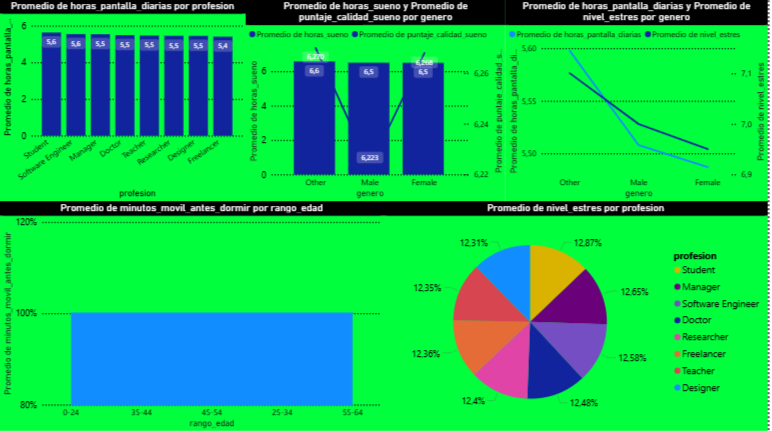

This screenshot's page, from the dashboard's own definition file:
{"tool":"powerbi","page":{"name":"Página 1","canvas":[1280,720],"ordinal":0},"visuals":[{"type":"clusteredColumnChart","fields":{"Category":["Estadisticas.profesion"],"Y":["Avg(Estadisticas.horas_pantalla_diarias)"]},"box":[0,0,410,336.7],"z":0},{"type":"lineClusteredColumnComboChart","fields":{"Category":["Estadisticas.genero"],"Y":["Avg(Estadisticas.horas_sueno)"],"Y2":["Avg(Estadisticas.puntaje_calidad_sueno)"]},"box":[410,0,433.3,336.7],"z":1},{"type":"lineChart","fields":{"Category":["Estadisticas.genero"],"Y":["Avg(Estadisticas.horas_pantalla_diarias)"],"Y2":["Avg(Estadisticas.nivel_estres)"]},"box":[843.3,0,436.7,336.7],"z":2},{"type":"hundredPercentStackedAreaChart","fields":{"Category":["Estadisticas.rango_edad"],"Y":["Avg(Estadisticas.minutos_movil_antes_dormir)"]},"box":[0,336.7,640,383.3],"z":3},{"type":"pieChart","fields":{"Category":["Estadisticas.profesion"],"Y":["Avg(Estadisticas.nivel_estres)"]},"box":[640,336.7,640,383.3],"z":4}]}

Visuals, with their boxes in screenshot pixels (x1, y1, x2, y2), scaled from the page's 1280x720 canvas onto the 772x431 screenshot:
clusteredColumnChart - Estadisticas.profesion x Avg(Estadisticas.horas_pantalla_diarias): [x1=0, y1=0, x2=247, y2=202]
lineClusteredColumnComboChart - Estadisticas.genero x Avg(Estadisticas.horas_sueno): [x1=247, y1=0, x2=509, y2=202]
lineChart - Estadisticas.genero x Avg(Estadisticas.horas_pantalla_diarias): [x1=509, y1=0, x2=771, y2=202]
hundredPercentStackedAreaChart - Estadisticas.rango_edad x Avg(Estadisticas.minutos_movil_antes_dormir): [x1=0, y1=202, x2=386, y2=430]
pieChart - Estadisticas.profesion x Avg(Estadisticas.nivel_estres): [x1=386, y1=202, x2=771, y2=430]
